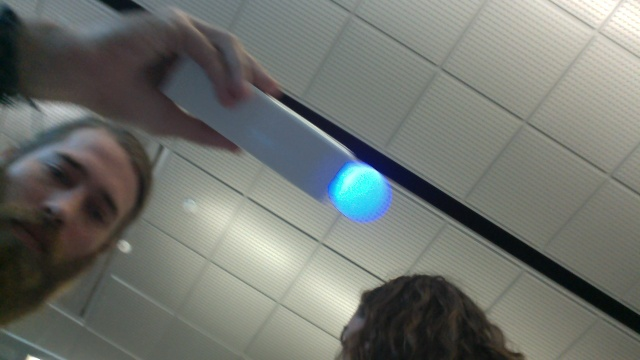wand: (334, 165, 390, 223)
